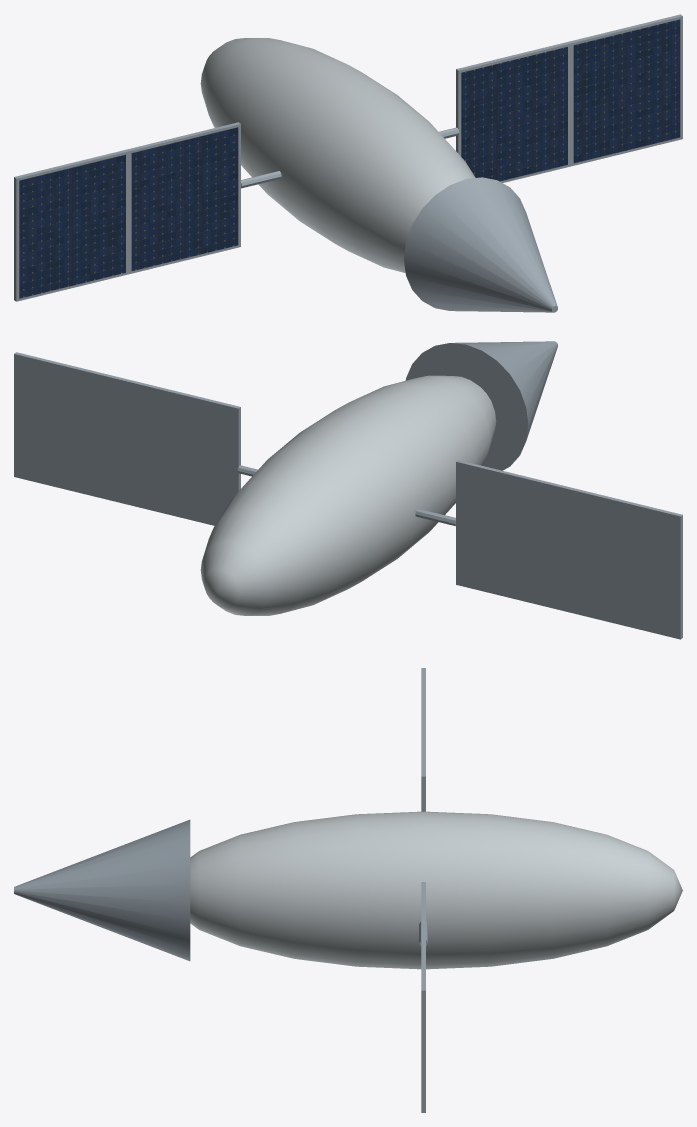
File: ref-7k-ok-2601.glb
3 renders of one model, top to bottom at view 1: azimuth 30°, elevation 25°; view 2: azimuth 150°, elevation 25°; view 3: azimuth 270°, elevation 25°, orthographic.
Visible parts, largest first — view 1: Photovoltaic laminates (×4), Spacecraft body, Conical section, Array frame (×4); view 2: Array frame (×4), Spacecraft body, Conical section; view 3: Spacecraft body, Conical section, Array frame.
Boxes of the visible parts, x1,y1,x2,y2 form: Photovoltaic laminates (×4): (19, 19, 680, 298); Spacecraft body: (200, 38, 475, 272); Conical section: (404, 177, 557, 312); Array frame (×4): (14, 14, 682, 301); Array frame (×4): (14, 352, 682, 639); Spacecraft body: (200, 375, 496, 615); Conical section: (405, 341, 557, 470); Spacecraft body: (190, 811, 682, 969); Conical section: (14, 819, 190, 961); Array frame: (421, 936, 425, 1112).
Bounding box in the file's own units: 10.6 × 2.2 × 9.29.
Materials: 3 (1 with a texture image).
